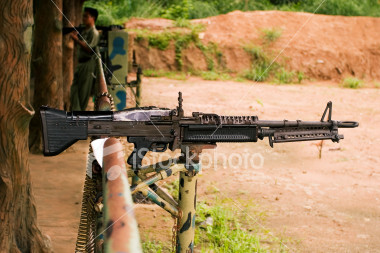rifle: (41, 98, 370, 186)
